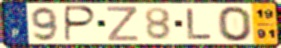8: (143, 7, 174, 41)
9: (29, 5, 61, 42)
L: (185, 7, 215, 41)
O: (216, 5, 255, 43)
P: (63, 4, 98, 43)
Z: (105, 5, 141, 42)
